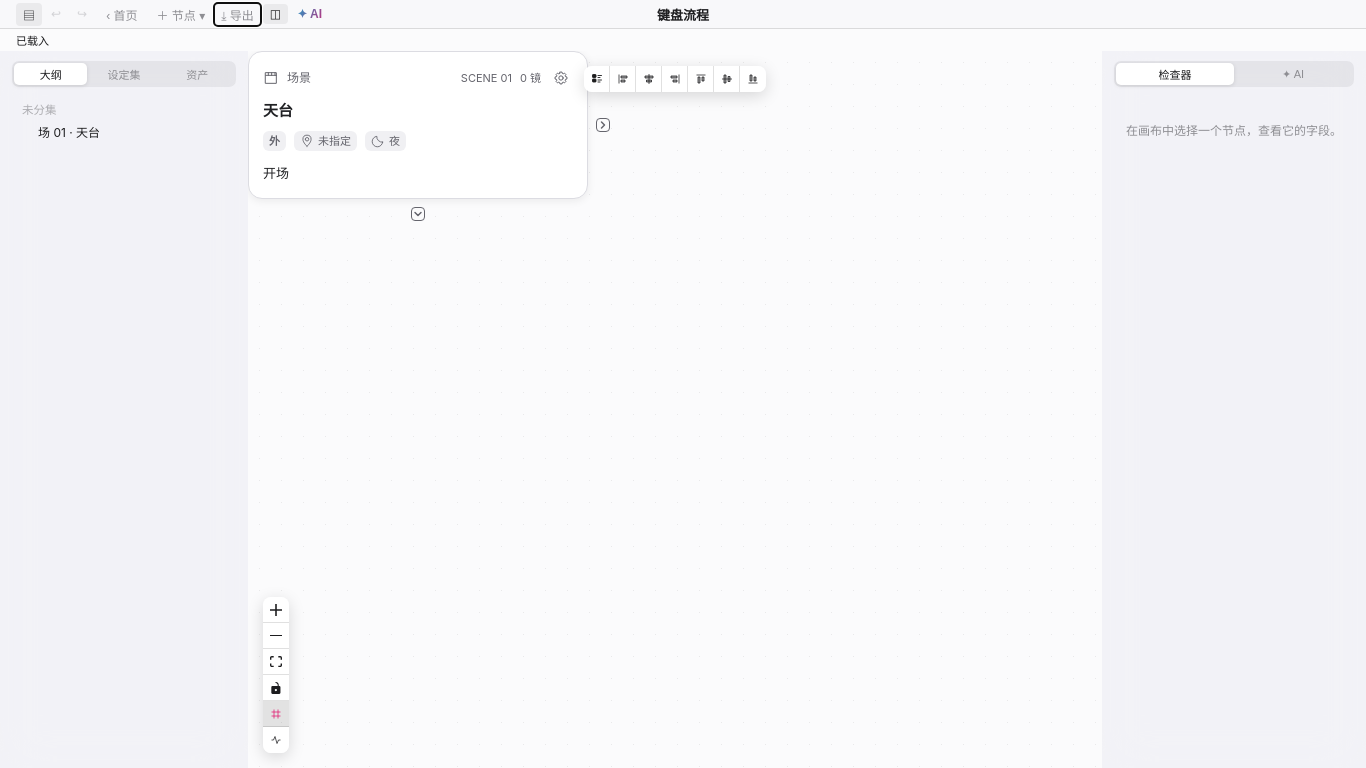
Test: 编辑器键盘流程（issue #238） › 导出弹窗：打开焦点移入弹窗，Escape 关闭后归还触发按钮（issue #263）
Click the button with aria-label "导出剧本" at (238, 14), box [214,2,261,26]
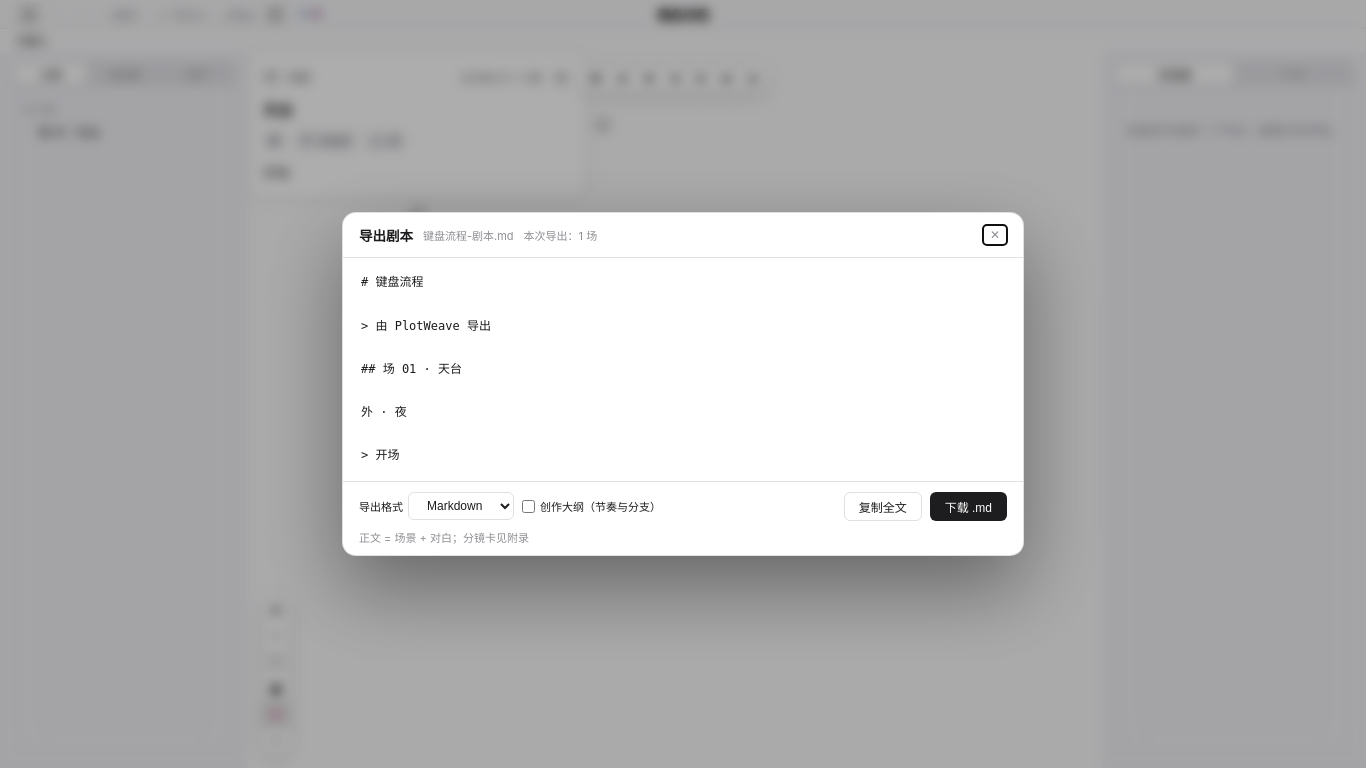
Result: the dialog "导出剧本" is shown at [342,212,1024,556]
Press Escape
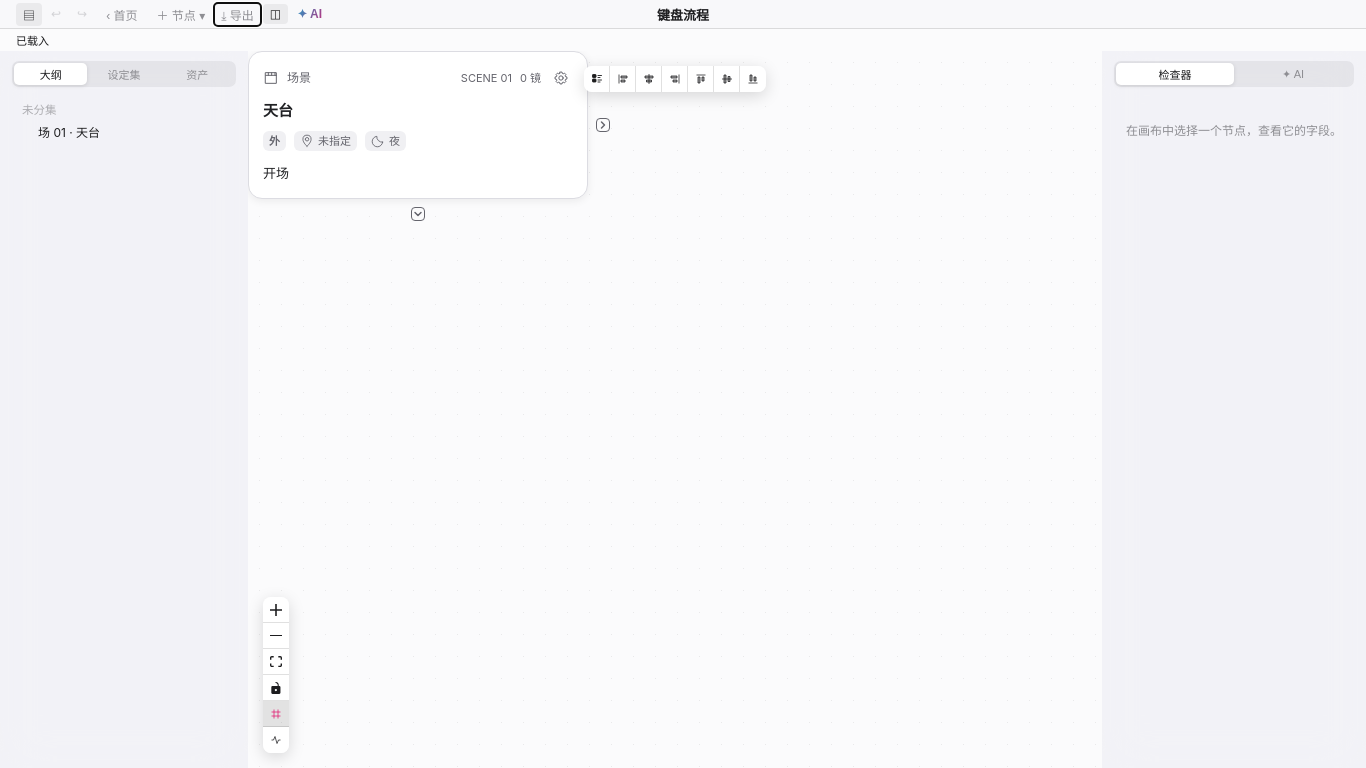
Result: the dialog is gone
